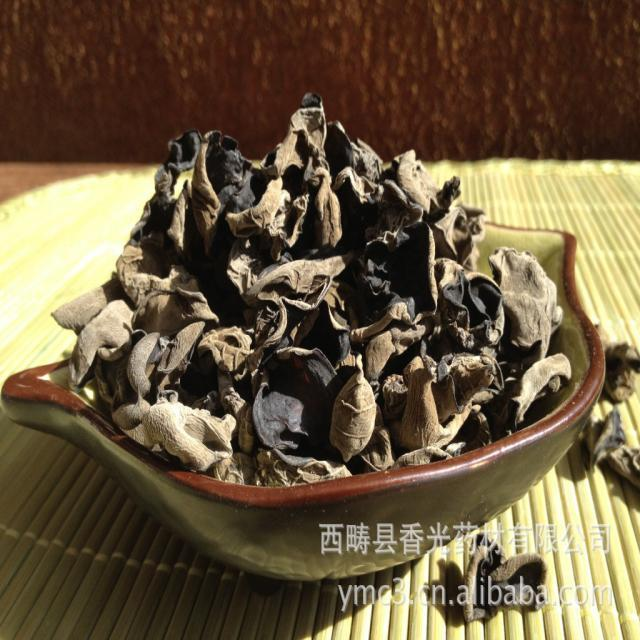Auricularia auricula: (50, 101, 574, 487), (453, 534, 547, 624), (599, 334, 640, 503)
